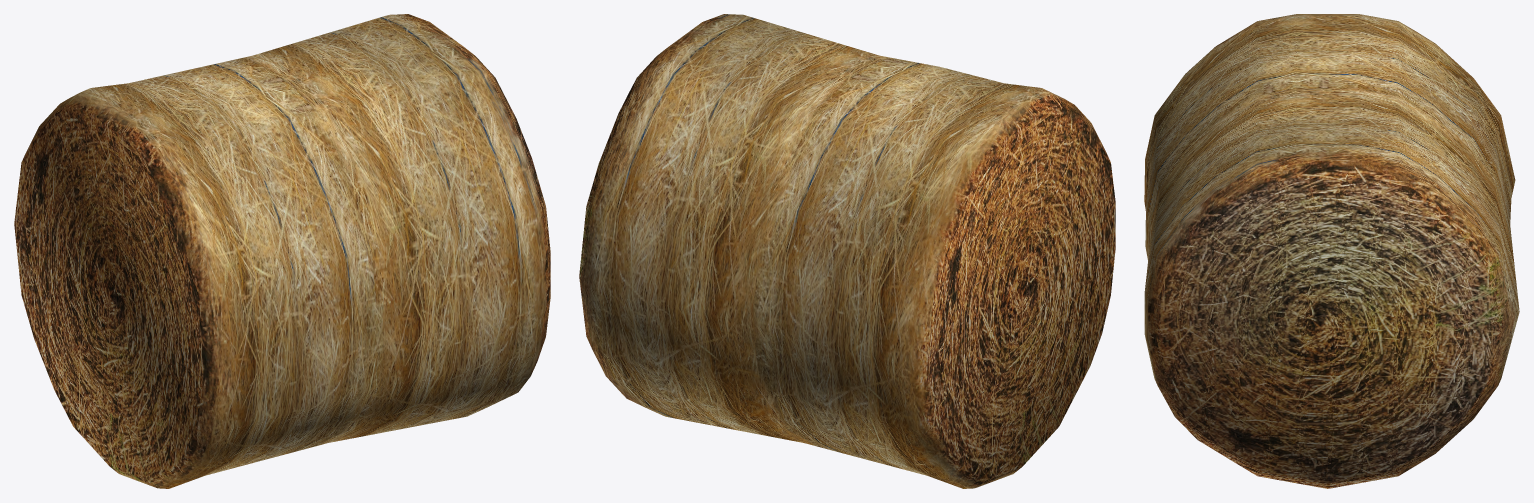
File: StrawBale.fbx
3 renders of one model, left to right at view 1: azimuth 30°, elevation 25°; view 2: azimuth 150°, elevation 25°; view 3: azimuth 270°, elevation 25°, orthographic. The views are drawn at different scales.
Visible parts, largest first — view 1: StrawBale; view 2: StrawBale; view 3: StrawBale.
Part boxes in pixels (x1,y1,x2,y2): StrawBale: (14,14,550,488); StrawBale: (579,14,1115,488); StrawBale: (1144,14,1519,488).
Size of the model in its own units: 171 by 171 by 174.
Materials: 1 (1 with a texture image).
